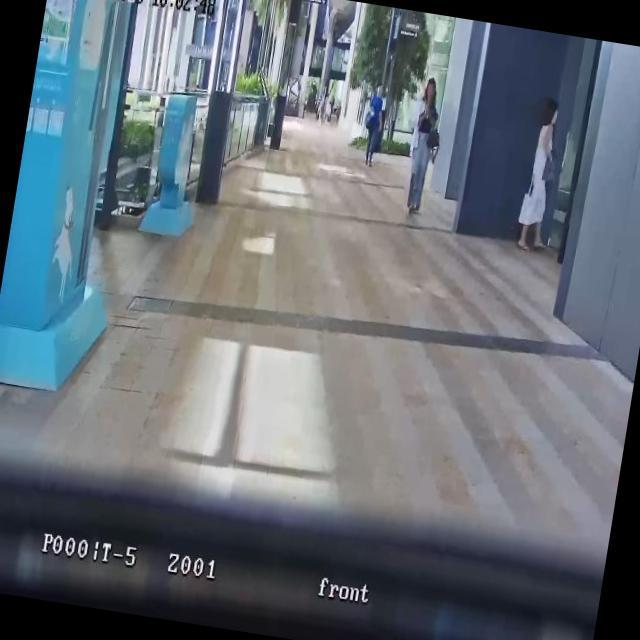person: (513, 102, 563, 254), (398, 74, 447, 218), (358, 82, 388, 168), (316, 96, 328, 130), (332, 97, 342, 127)
